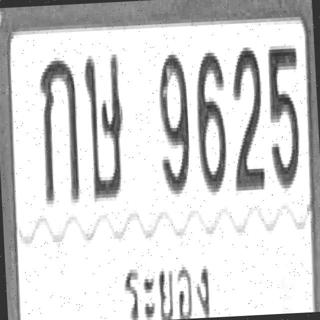A01: (38, 55, 82, 202)
A39: (82, 49, 127, 200)
N02: (228, 44, 266, 191)
N05: (266, 42, 303, 189)
N06: (193, 49, 229, 193)
N09: (156, 51, 192, 195)
P53: (116, 244, 215, 320)
